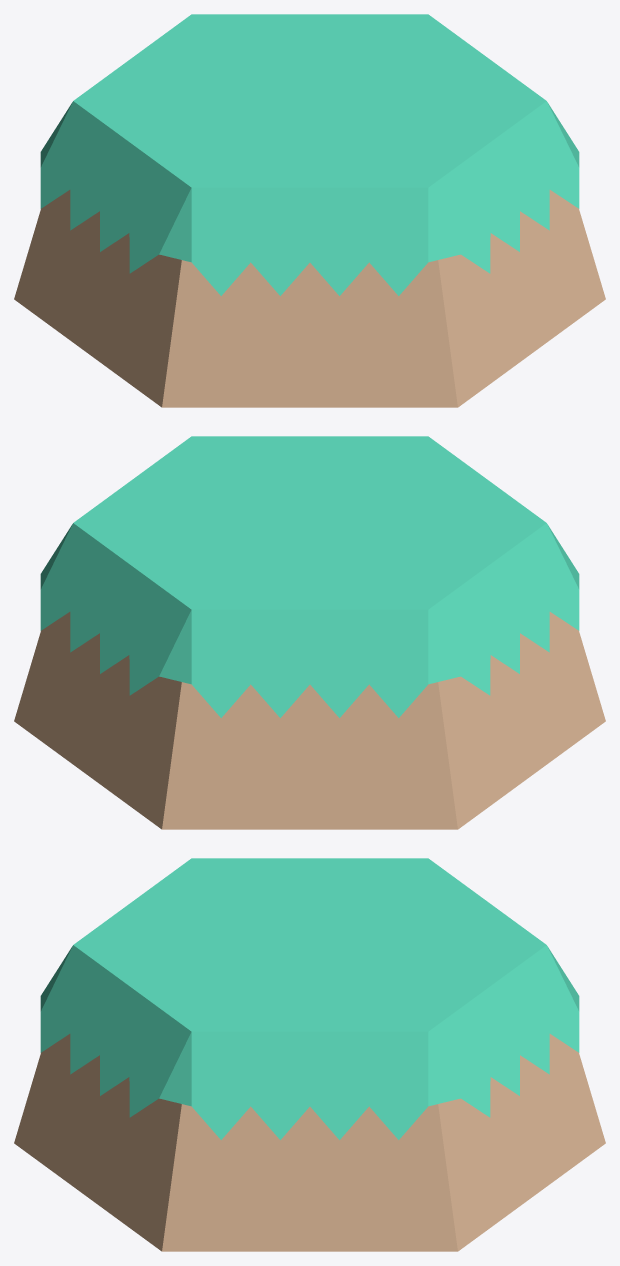
Rendered from blockHexagonLow.glb.
3 views of the same model, one above another, from view 1: azimuth 30°, elevation 25°; view 2: azimuth 150°, elevation 25°; view 3: azimuth 270°, elevation 25° (orthographic).
Visible parts, largest first — view 1: blockHexagonLow; view 2: blockHexagonLow; view 3: blockHexagonLow.
Part boxes in pixels (x1,y1,x2,y2): blockHexagonLow: (14,14,605,407); blockHexagonLow: (14,436,605,829); blockHexagonLow: (14,858,605,1251).
Bounding box in the file's own units: 1.01 × 0.427 × 1.15.
